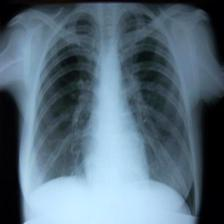tuberculosis: (22, 4, 202, 224)
